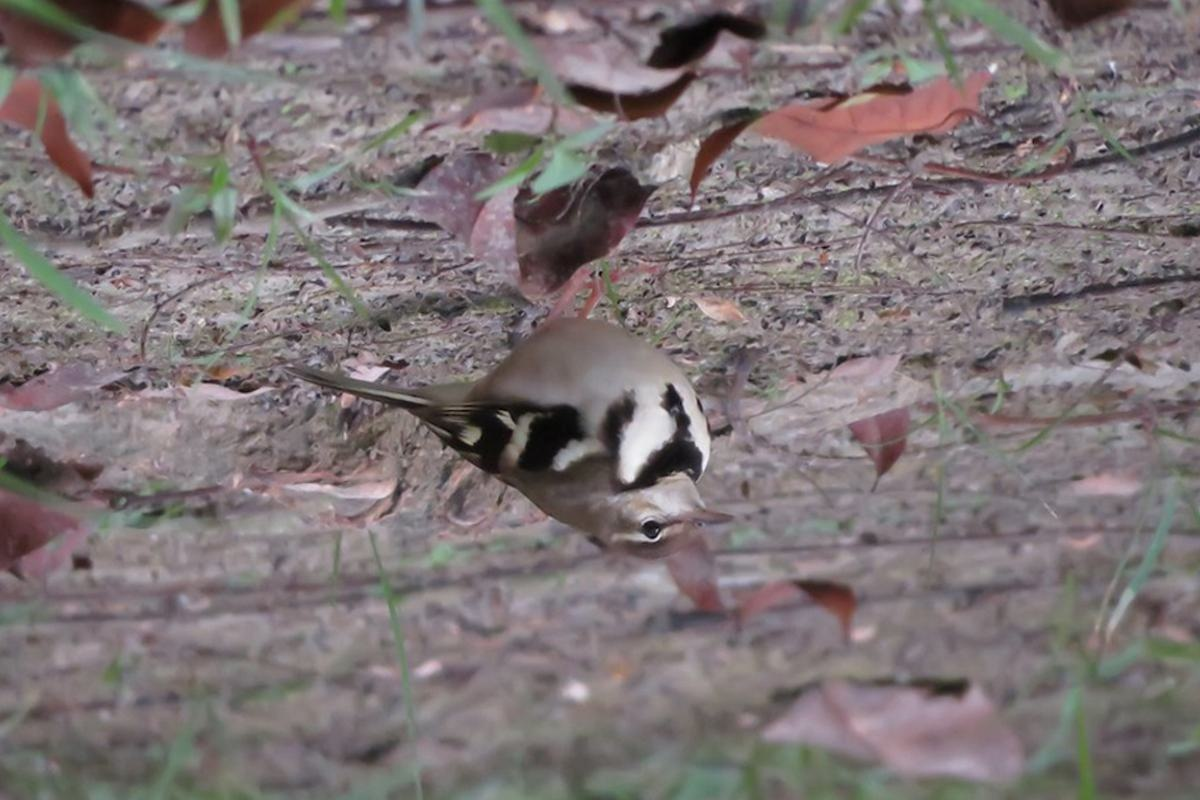wagtail: (405, 264, 748, 543)
